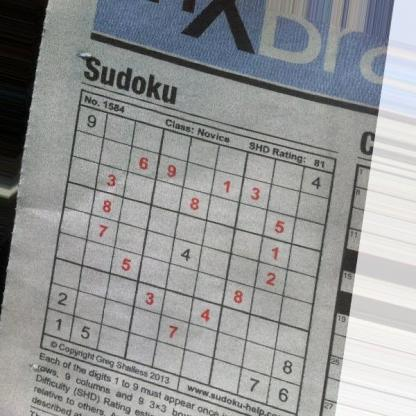sudoku: (40, 102, 336, 416)
